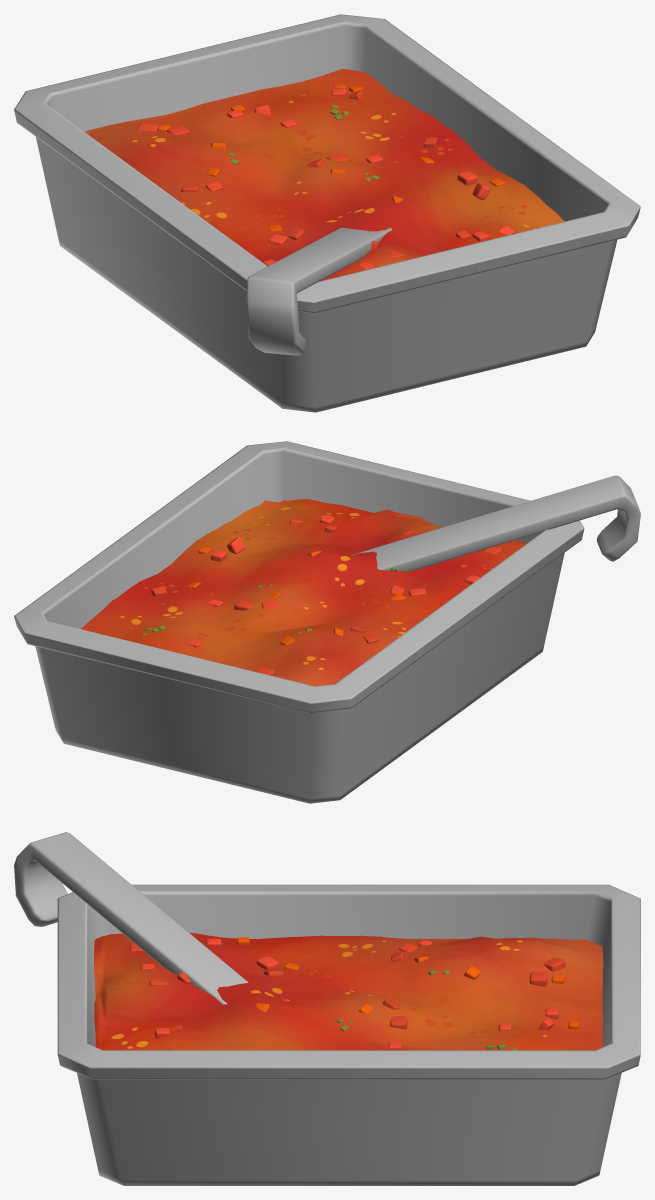
Rendered from Salsa.fbx.
3 renders of one model, top to bottom at view 1: azimuth 30°, elevation 25°; view 2: azimuth 150°, elevation 25°; view 3: azimuth 270°, elevation 25°, orthographic. The views are drawn at different scales.
Visible parts, largest first — view 1: SalsaContainer, Salsa, SalsaLadle, SalsaCubes; view 2: SalsaContainer, Salsa, SalsaLadle, SalsaCubes; view 3: SalsaContainer, Salsa, SalsaLadle, SalsaCubes.
Part boxes in pixels (x1=…): SalsaContainer: x1=14, y1=14, x2=640, y2=412; Salsa: x1=85, y1=69, x2=564, y2=280; SalsaLadle: x1=246, y1=227, x2=392, y2=355; SalsaCubes: x1=137, y1=84, x2=514, y2=281; SalsaContainer: x1=14, y1=441, x2=584, y2=803; Salsa: x1=81, y1=498, x2=526, y2=686; SalsaLadle: x1=352, y1=475, x2=640, y2=571; SalsaCubes: x1=141, y1=515, x2=502, y2=678; SalsaContainer: x1=57, y1=884, x2=640, y2=1185; Salsa: x1=94, y1=933, x2=603, y2=1050; SalsaLadle: x1=14, y1=832, x2=248, y2=1004; SalsaCubes: x1=129, y1=937, x2=579, y2=1050.
Bounding box in the file's own units: 489 × 192 × 636.
Materials: 6 (1 with a texture image).
